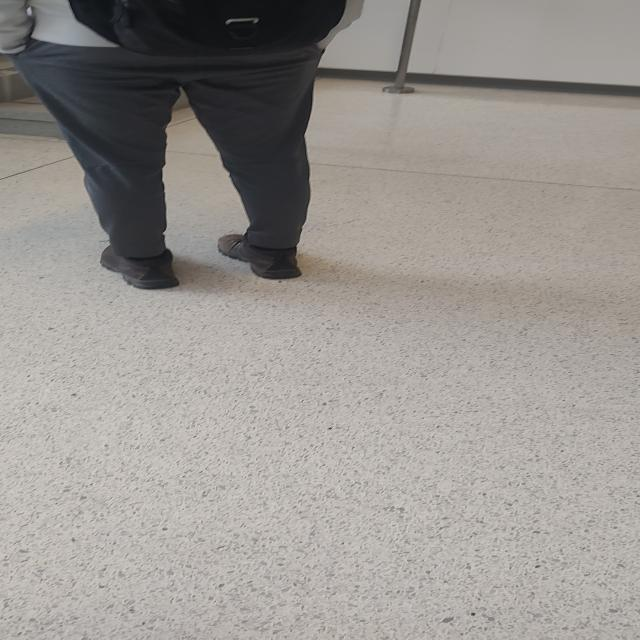Boots: (212, 228, 316, 285), (91, 239, 191, 292)
